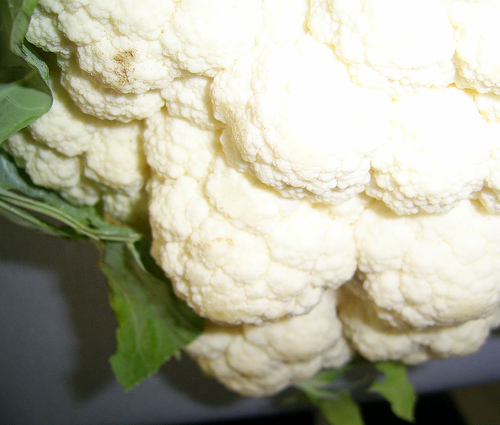cauliflower: (7, 0, 498, 398)
